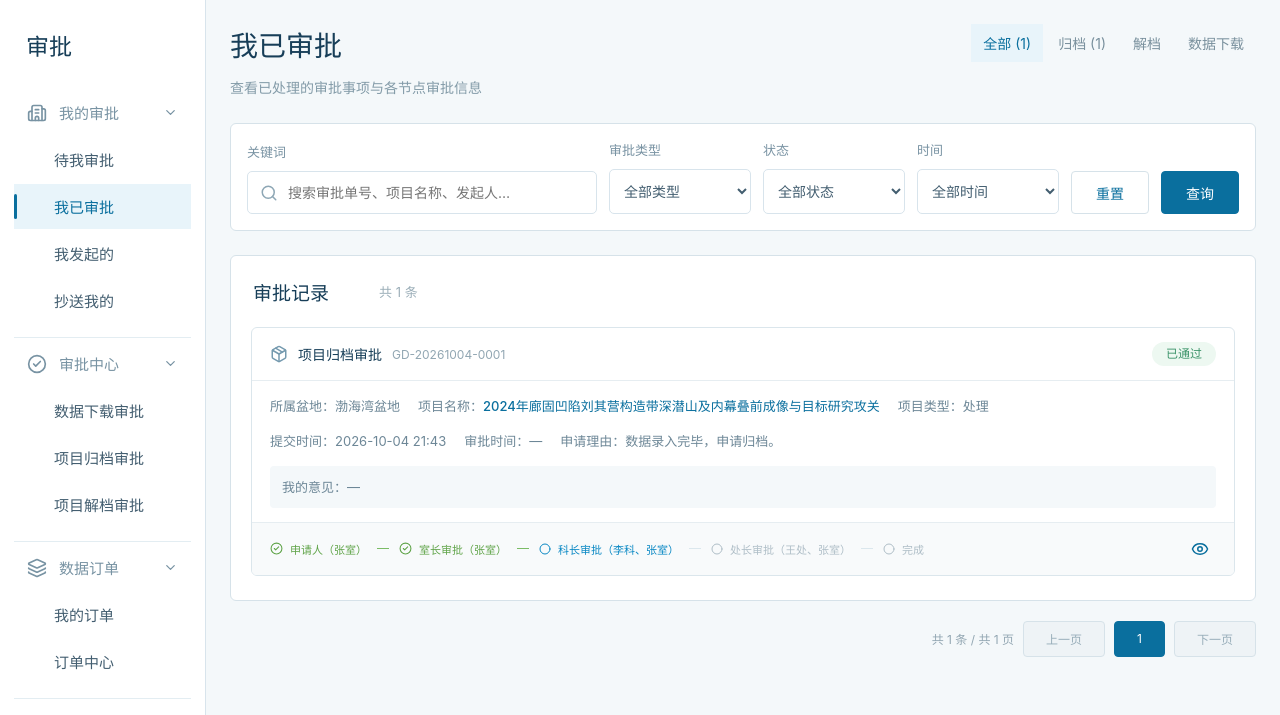
Test: 审批关键词、类型、状态与详情 › 节点弹窗和归档12项明细可以打开并关闭
Click the button "室长审批（张室）".
click(464, 549)  # box [399, 536, 529, 562]
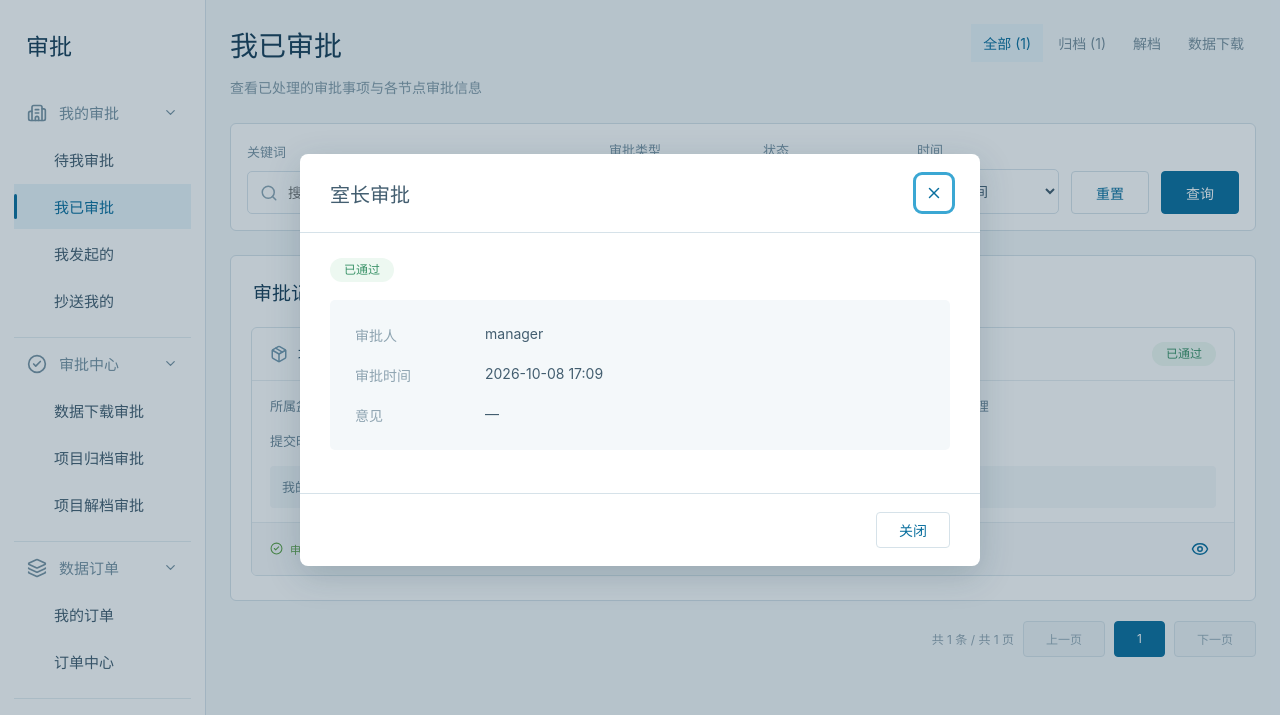
Now the dialog "室长审批" shows "manager", box [485, 325, 543, 342]
Now the dialog shows "2026-10-08 17:09", box [485, 365, 603, 382]
Press Escape
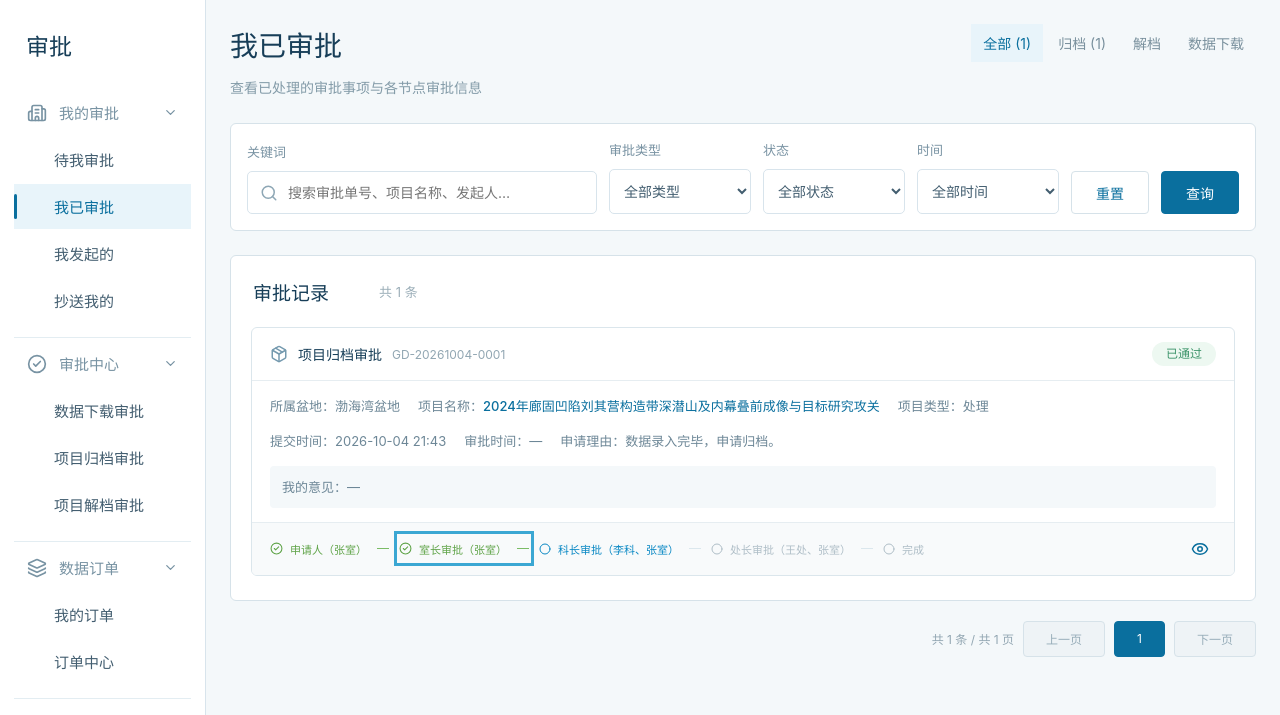
Click the button named "查看详情".
click(1200, 549)  # box [1184, 533, 1216, 565]
(page scrolled)
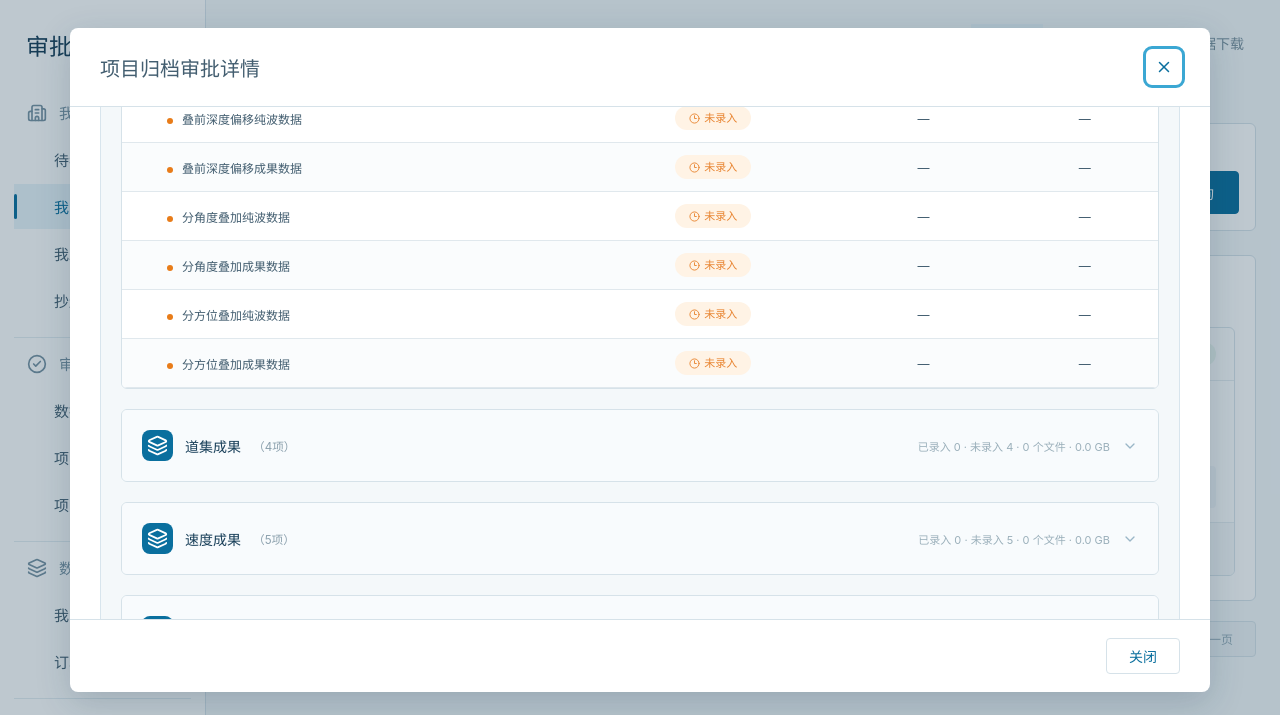
Now the text "未录入" is shown 12 times
Now the text "分方位叠加成果数据" is shown, box [122, 339, 591, 388]
